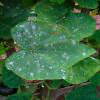Squash Powdery mildew leaf: (4, 21, 98, 81)
